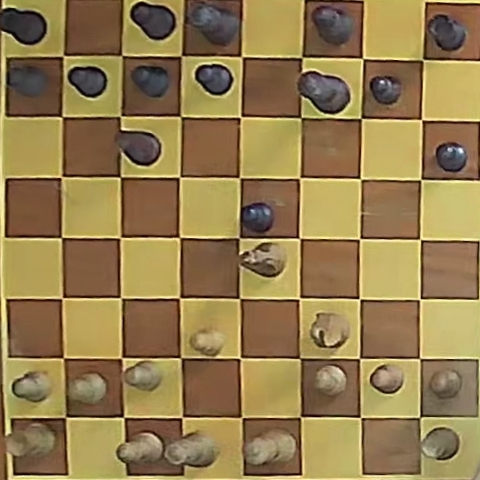black-bishop: (130, 2, 176, 40), (312, 6, 354, 45)
black-king: (298, 72, 350, 113)
black-knight: (240, 242, 287, 277), (115, 131, 160, 165)
black-pawn: (7, 65, 49, 97), (130, 65, 170, 97), (68, 66, 107, 98), (195, 65, 232, 96), (241, 202, 273, 232), (435, 142, 467, 172), (370, 76, 402, 105)
black-queen: (186, 2, 239, 46)
black-rook: (0, 7, 47, 46), (426, 14, 466, 52)
white-bishop: (117, 432, 164, 464)
white-king: (244, 428, 296, 465)
white-knight: (310, 312, 349, 348)
white-pawn: (68, 372, 108, 405), (12, 370, 52, 402), (125, 361, 162, 391), (189, 327, 225, 356), (370, 363, 404, 393), (314, 365, 347, 395), (429, 369, 462, 399)
white-queen: (164, 431, 220, 467)
white-rook: (6, 422, 56, 458), (421, 427, 458, 460)
